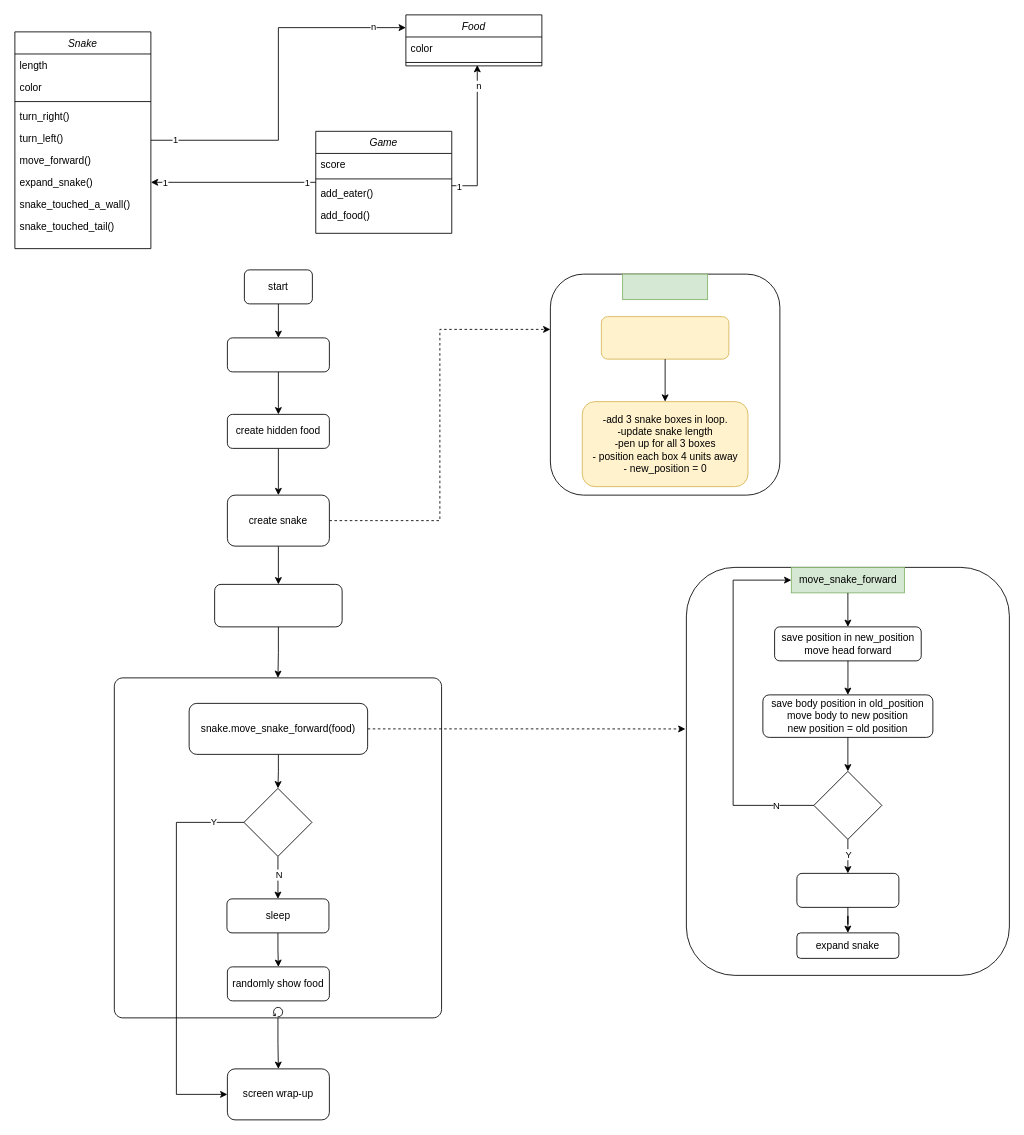
The diagram is 1024 pixels wide and 1135 high, and some of its shapes have lost their labels. The centre of each missing label's shape, as x and y in pixels:
"create snake empty list" belongs at [665,337].
"eaten food" belongs at [847,805].
"hide food" belongs at [847,890].
"register_screen_events" belongs at [278,605].
"screen setup" belongs at [278,354].
"snake __init__" belongs at [665,286].
"snake collision" belongs at [277,822].
